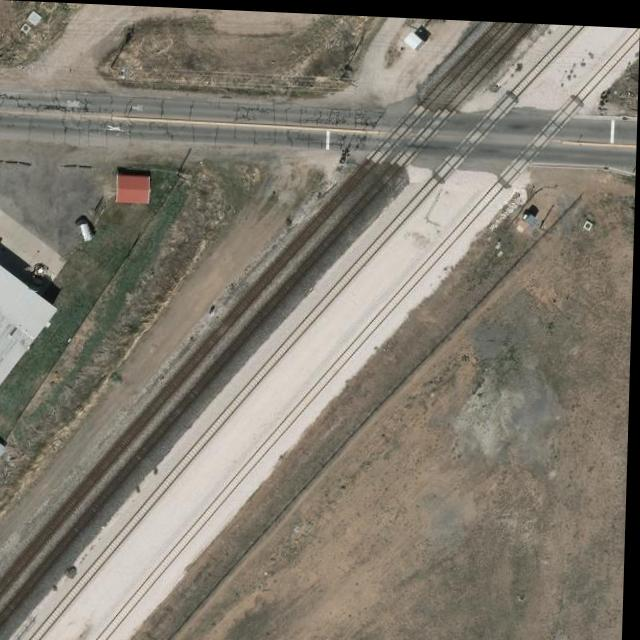vehicle: (24, 262, 54, 292), (75, 217, 99, 242)
